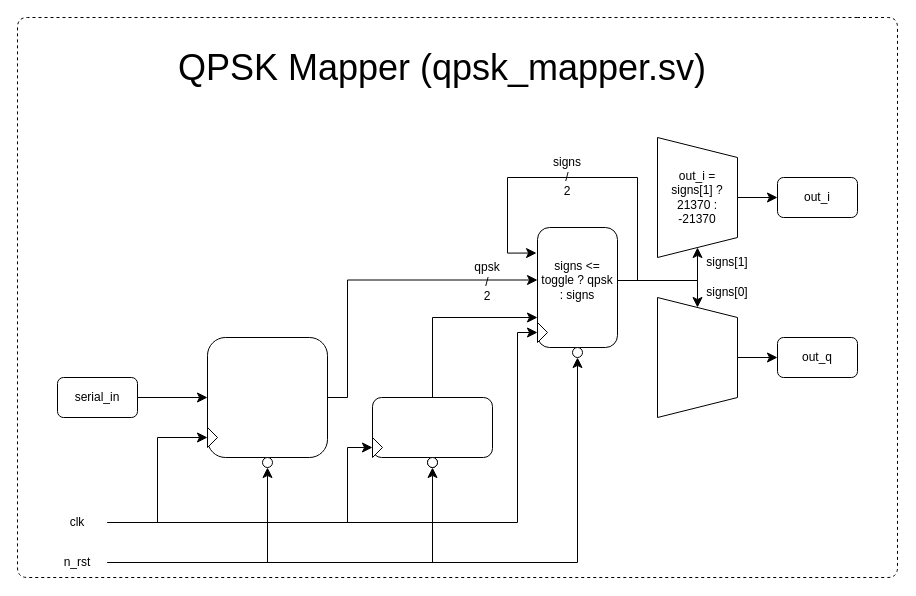
The diagram is 916 pixels wide and 596 high, and some of its shapes have lost their labels. The centre of each missing label's shape, as x and y in pixels:
"2-bit STP SR out = {out[0], serial_in}" goes at (x=267, y=397).
"out_q = signs[0] ? 21370 : -21370" goes at (x=697, y=357).
"toggle = ~toggle" goes at (x=432, y=427).
